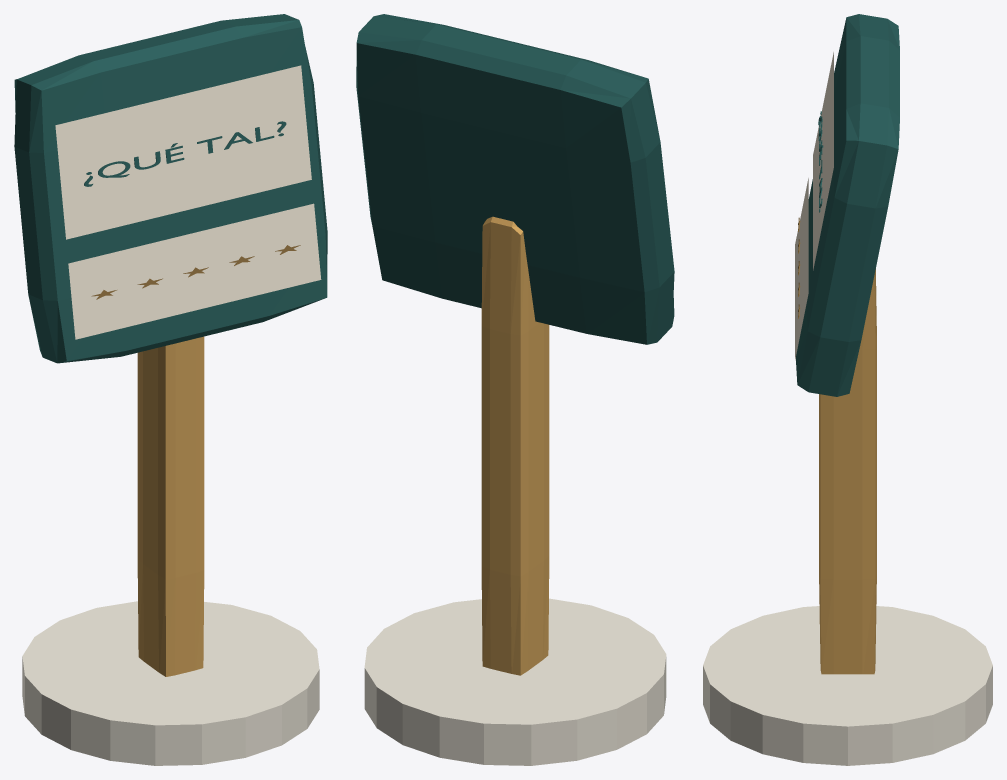
Rendered from hiperreal.glb.
The picture shows the model from 3 angles, left to right: view 1: azimuth 30°, elevation 25°; view 2: azimuth 150°, elevation 25°; view 3: azimuth 270°, elevation 25°; orthographic projection. The views are drawn at different scales.
Visible parts, largest first — view 1: Native component 2, Native component 0, Native component 3, Native component 1, Native component 4, Sign ¿QUÉ TAL?; view 2: Native component 2, Native component 0, Native component 1; view 3: Native component 0, Native component 2, Native component 1, Native component 3, Native component 4.
Boxes of the visible parts, left/top/right/bottom form: Native component 2: left=14, top=14, right=327, bottom=363; Native component 0: left=22, top=601, right=319, bottom=765; Native component 3: left=55, top=65, right=311, bottom=239; Native component 1: left=137, top=336, right=204, bottom=676; Native component 4: left=68, top=203, right=321, bottom=339; Sign ¿QUÉ TAL?: left=84, top=121, right=286, bottom=186; Native component 2: left=356, top=14, right=674, bottom=344; Native component 0: left=364, top=598, right=666, bottom=765; Native component 1: left=481, top=216, right=549, bottom=675; Native component 0: left=703, top=606, right=992, bottom=765; Native component 2: left=796, top=14, right=899, bottom=396; Native component 1: left=819, top=269, right=876, bottom=674; Native component 3: left=813, top=52, right=833, bottom=270; Native component 4: left=795, top=178, right=808, bottom=360.
Size of the model in its own units: 0.66 by 1.45 by 0.6.
